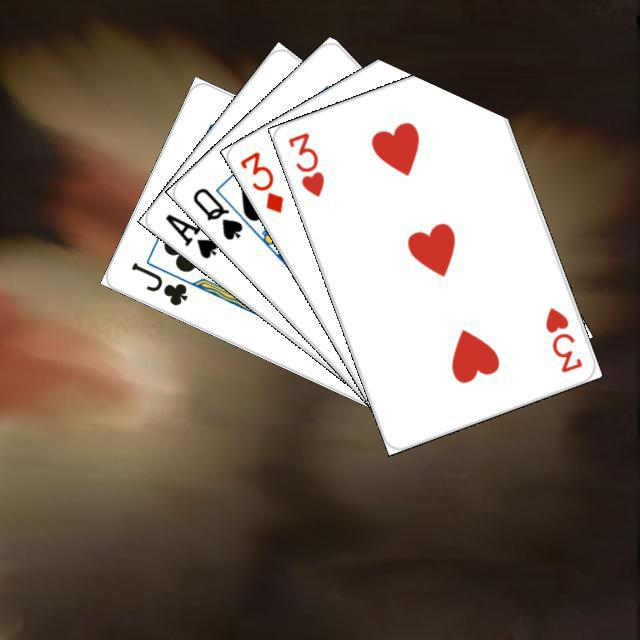3d: (235, 146, 286, 215)
3h: (540, 302, 585, 375), (283, 127, 326, 199)
As: (160, 208, 220, 261)
Jc: (126, 257, 190, 308)
Qs: (187, 182, 245, 242)
